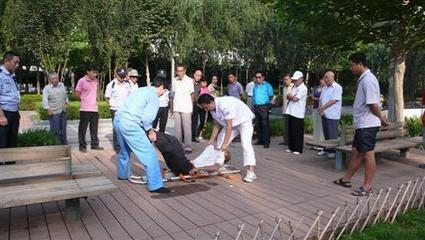10+: (2, 50, 397, 210)
down: (155, 130, 230, 178)
